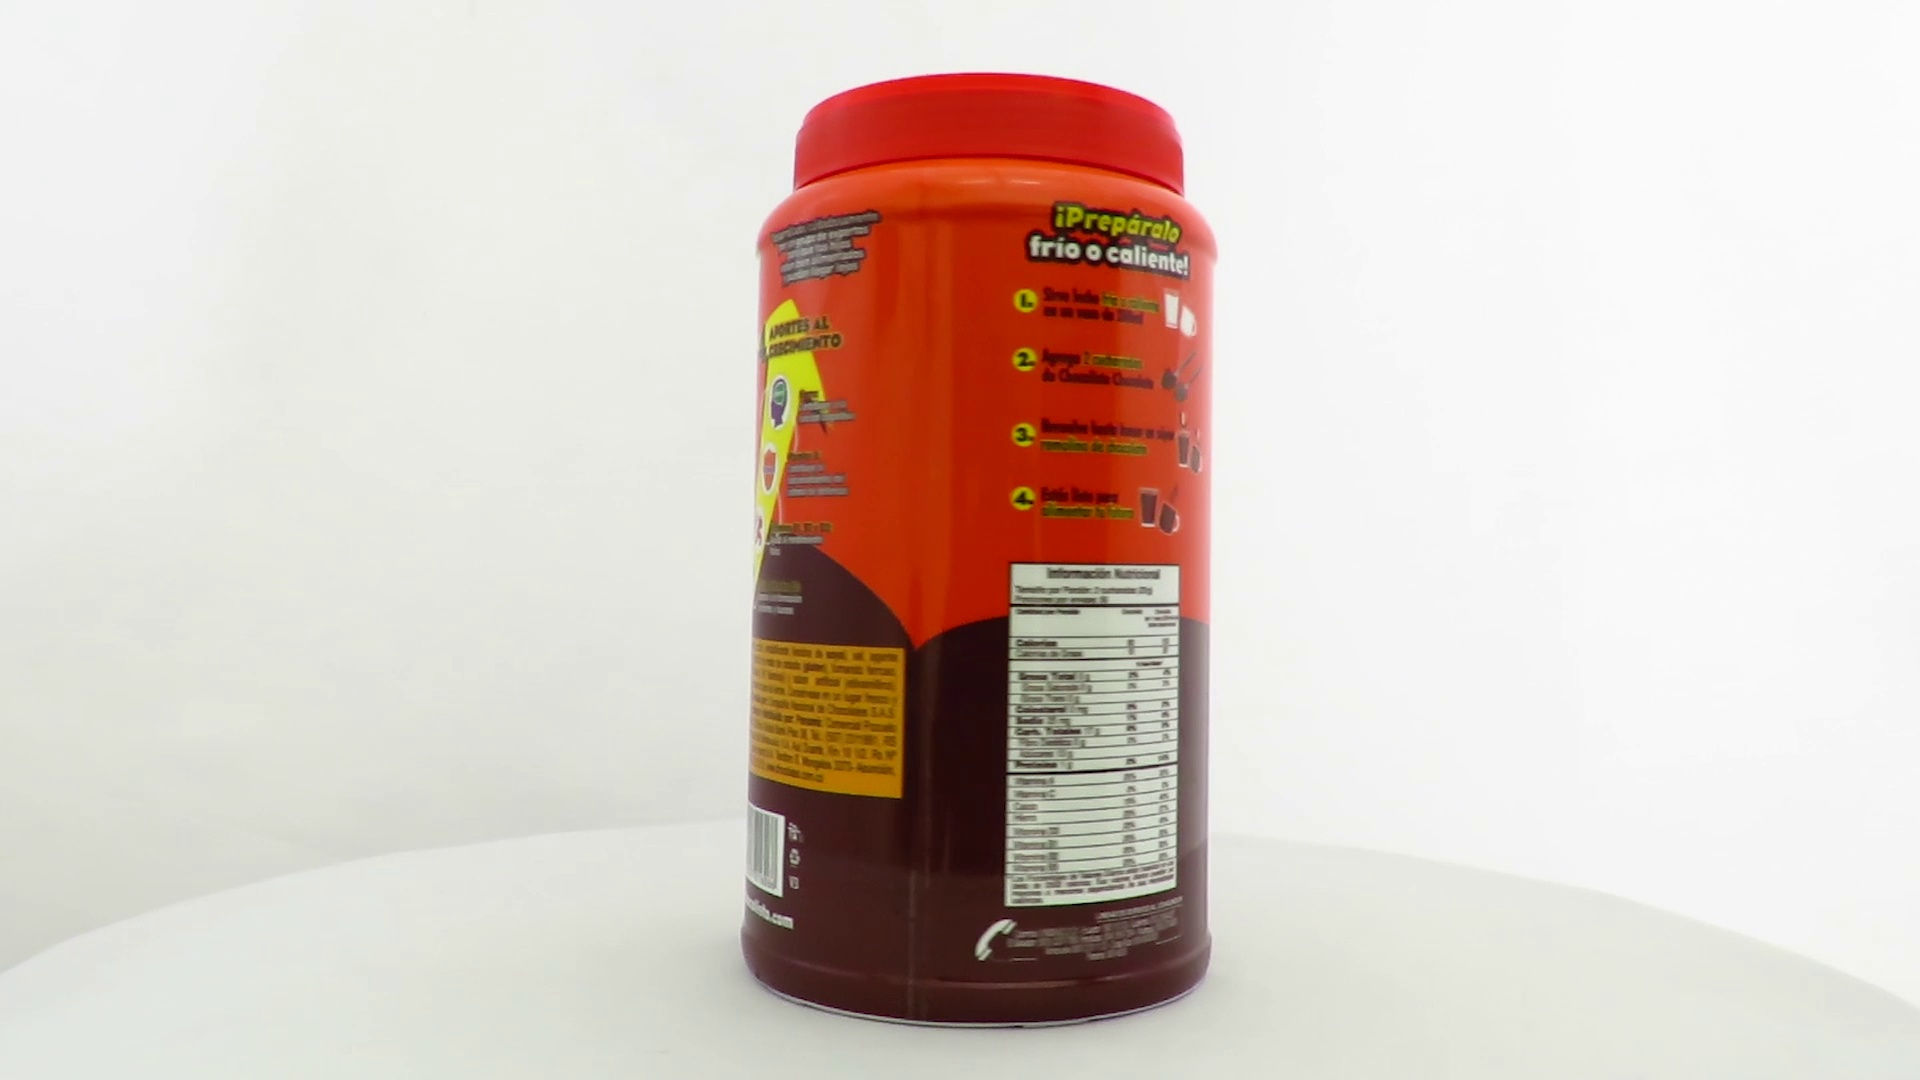COL0170103TRR00100: (735, 67, 1220, 1036)
